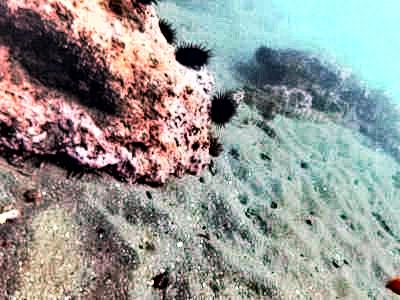urchin: (175, 41, 213, 72), (208, 92, 232, 129), (155, 21, 175, 43)
